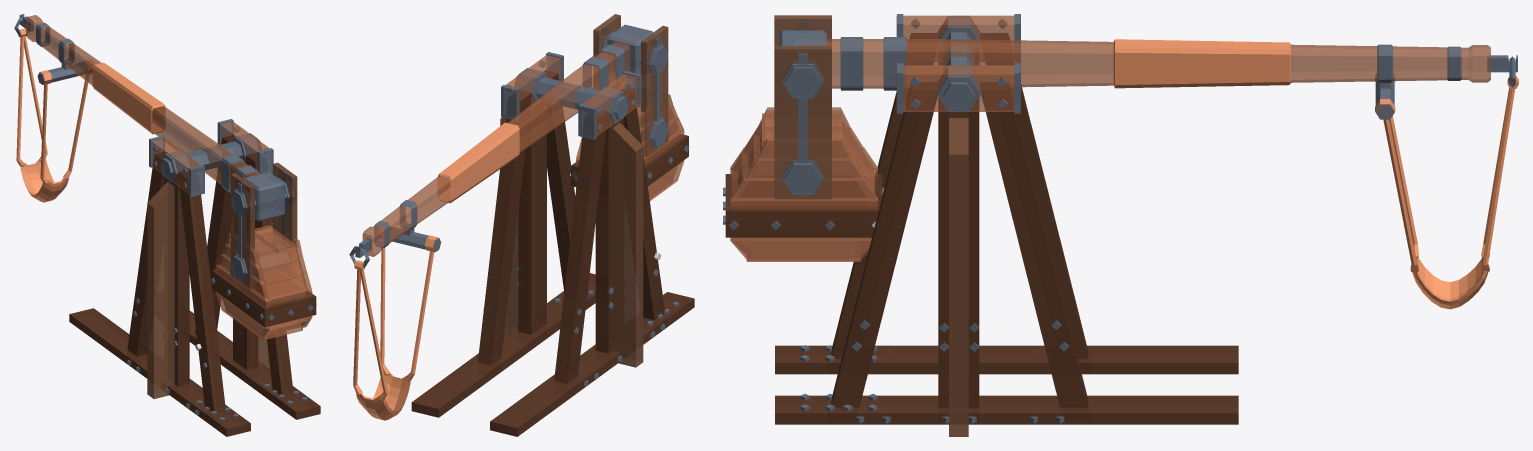
The model's file is Trebuchet.fbx.
3 renders of one model, left to right at view 1: azimuth 30°, elevation 25°; view 2: azimuth 150°, elevation 25°; view 3: azimuth 270°, elevation 25°, orthographic. The views are drawn at different scales.
Visible parts, largest first — view 1: Cube, Cube.038, Cube.054, Plane, Cylinder.009, Cube.075, Cube.042, Cube.072, Cube.027, Cylinder.007, Cube.040; view 2: Cube, Cube.038, Plane, Cylinder.009, Cube.075, Cube.027, Cube.042, Cube.054, Cylinder.007, Cube.072, Cube.040; view 3: Cube, Cube.075, Plane, Cube.054, Cylinder.009, Cube.027, Cube.042, Cube.072, Cube.038, Cylinder.007, Cube.040.
Part boxes in pixels (left/top/right/bottom): Cube: left=69, top=135, right=320, bottom=436; Cube.038: left=147, top=182, right=270, bottom=398; Cube.054: left=216, top=223, right=312, bottom=339; Plane: left=16, top=28, right=165, bottom=202; Cylinder.009: left=14, top=14, right=316, bottom=421; Cube.075: left=26, top=15, right=259, bottom=190; Cube.042: left=230, top=162, right=297, bottom=289; Cube.072: left=211, top=269, right=316, bottom=327; Cube.027: left=149, top=119, right=273, bottom=196; Cylinder.007: left=231, top=172, right=294, bottom=281; Cube.040: left=244, top=172, right=284, bottom=221; Cube: left=411, top=70, right=694, bottom=436; Cube.038: left=500, top=117, right=643, bottom=367; Plane: left=353, top=122, right=519, bottom=420; Cylinder.009: left=349, top=44, right=689, bottom=385; Cube.075: left=362, top=41, right=629, bottom=256; Cube.027: left=501, top=52, right=641, bottom=139; Cube.042: left=593, top=14, right=668, bottom=157; Cube.054: left=576, top=84, right=684, bottom=200; Cylinder.007: left=596, top=24, right=668, bottom=148; Cube.072: left=571, top=134, right=688, bottom=186; Cube.040: left=607, top=24, right=652, bottom=74; Cube: left=775, top=33, right=1238, bottom=424; Cube.075: left=827, top=39, right=1490, bottom=88; Plane: left=1113, top=39, right=1518, bottom=309; Cube.054: left=730, top=107, right=877, bottom=261; Cylinder.009: left=723, top=16, right=1517, bottom=423; Cube.027: left=896, top=14, right=1020, bottom=113; Cube.042: left=774, top=15, right=831, bottom=199; Cube.072: left=725, top=174, right=882, bottom=237; Cube.038: left=949, top=118, right=968, bottom=436; Cylinder.007: left=782, top=20, right=824, bottom=195; Cube.040: left=779, top=30, right=826, bottom=45.
Bounding box in the file's own units: 343 × 667 × 1332.
